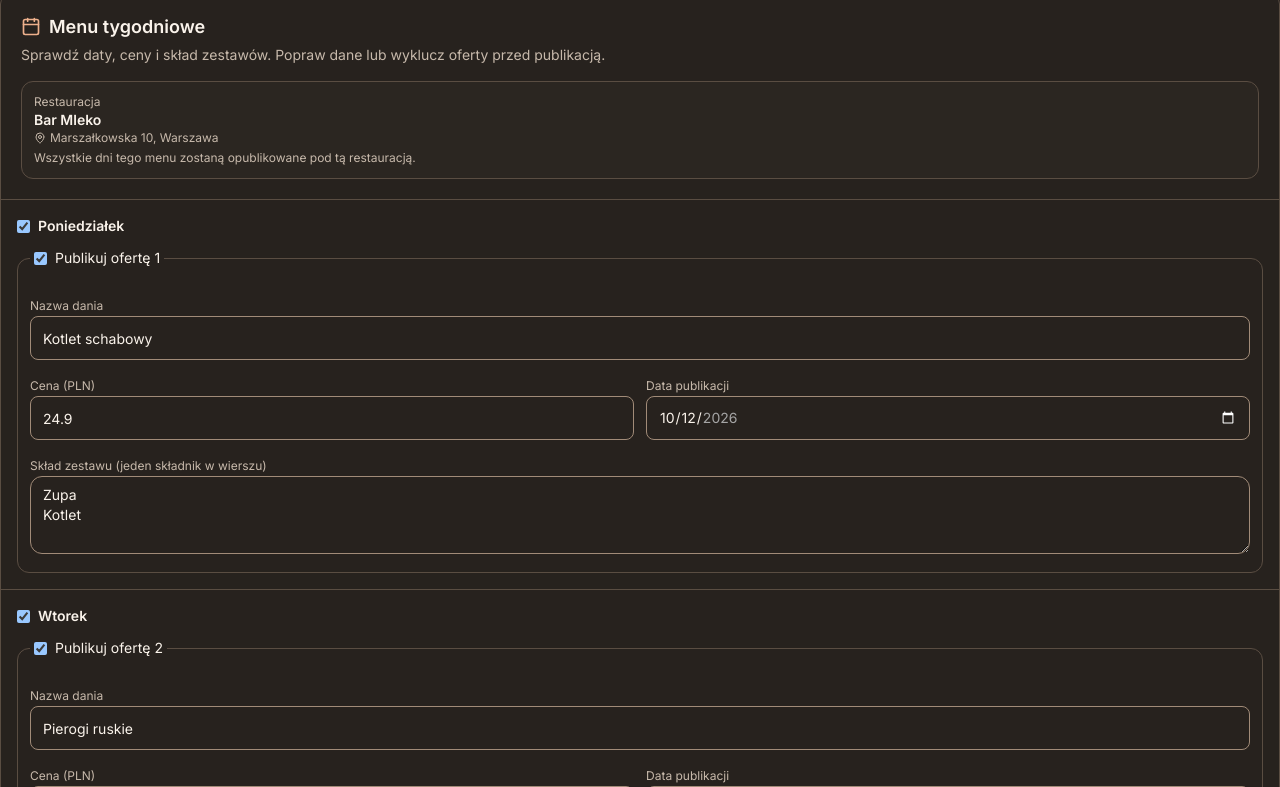
Test: WeeklyMenuPreview: the assigned restaurant › disables publishing when every day is deselected
Click the text "Poniedziałek". click: (71, 226)
box: x1=17 y1=217 x2=124 y2=234
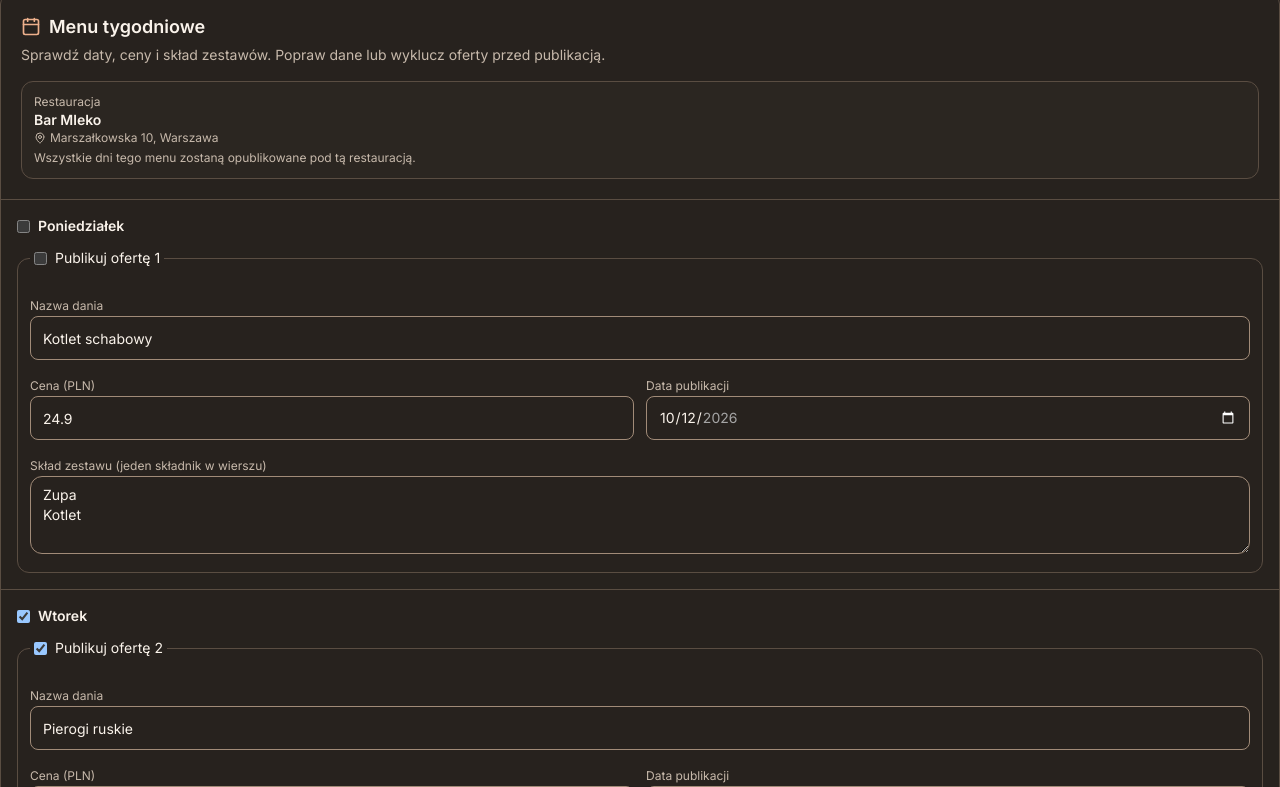
Click the text "Wtorek". click: (52, 616)
box: x1=17 y1=607 x2=87 y2=624
(page scrolled)
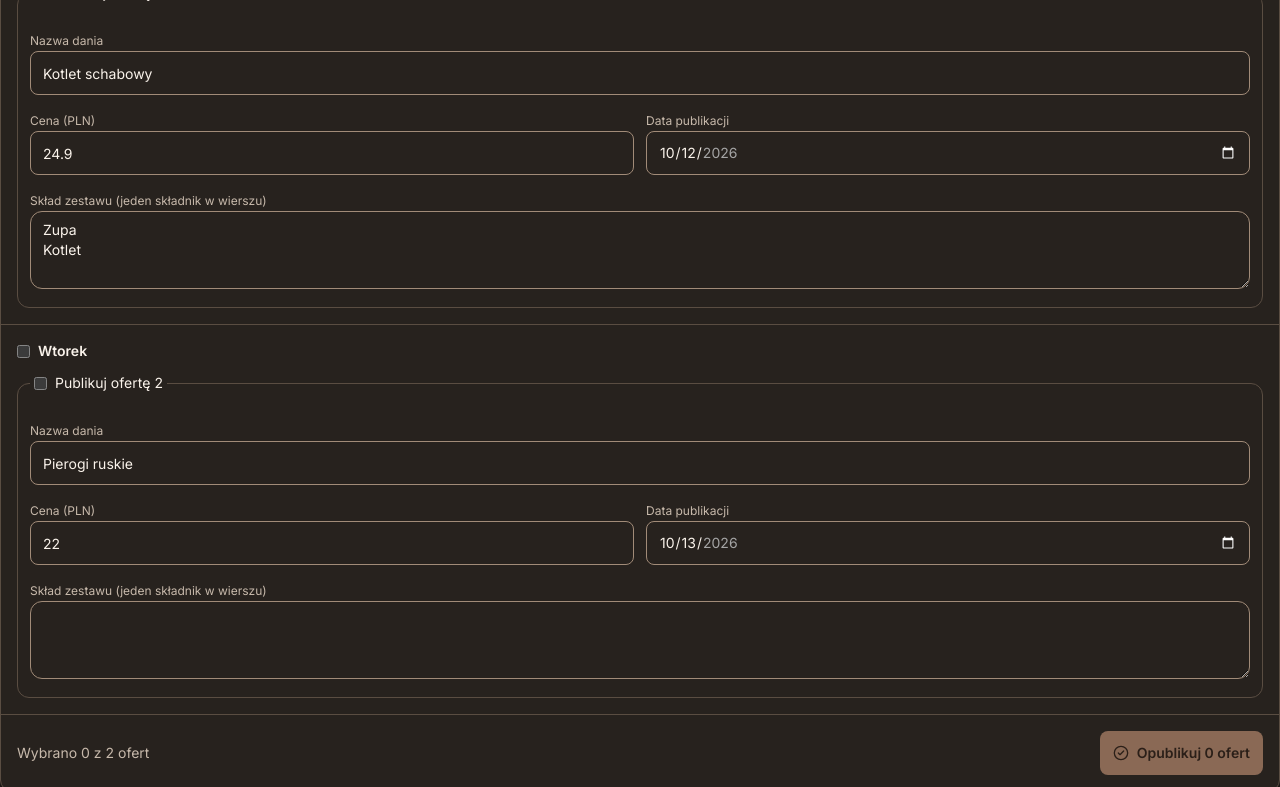
Expected: the button "Opublikuj 0 ofert" is disabled, x1=1100 y1=731 x2=1263 y2=775
